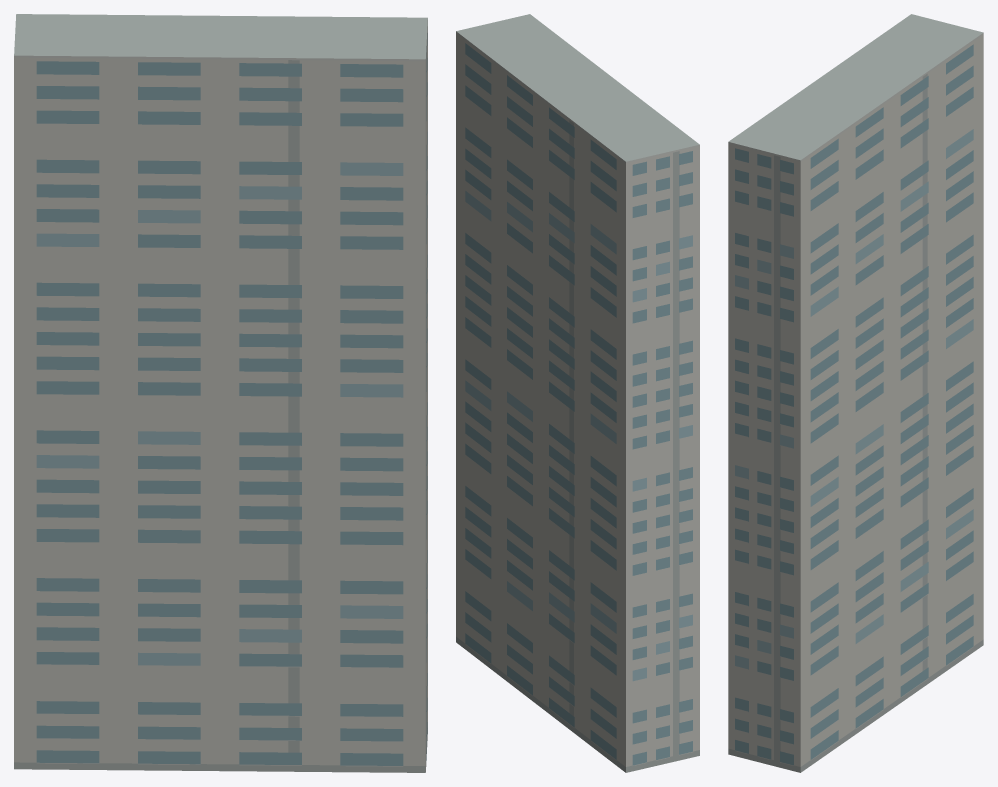
The model's file is residential-e332794f-bf3d-47ea-a313-f85b42d1319b.glb.
3 renders of one model, left to right at view 1: azimuth 30°, elevation 25°; view 2: azimuth 150°, elevation 25°; view 3: azimuth 270°, elevation 25°, orthographic. The views are drawn at different scales.
Parts seen in each view (by area): view 1: residential-e332794f-bf3d-47ea-a313-f85b42d1319b.tmp; view 2: residential-e332794f-bf3d-47ea-a313-f85b42d1319b.tmp; view 3: residential-e332794f-bf3d-47ea-a313-f85b42d1319b.tmp.
Part boxes in pixels (x1=…): residential-e332794f-bf3d-47ea-a313-f85b42d1319b.tmp: x1=14, y1=14, x2=427, y2=772; residential-e332794f-bf3d-47ea-a313-f85b42d1319b.tmp: x1=456, y1=14, x2=699, y2=772; residential-e332794f-bf3d-47ea-a313-f85b42d1319b.tmp: x1=728, y1=14, x2=983, y2=772.
Bounding box in the file's own units: 43.55 × 85 × 32.14.
